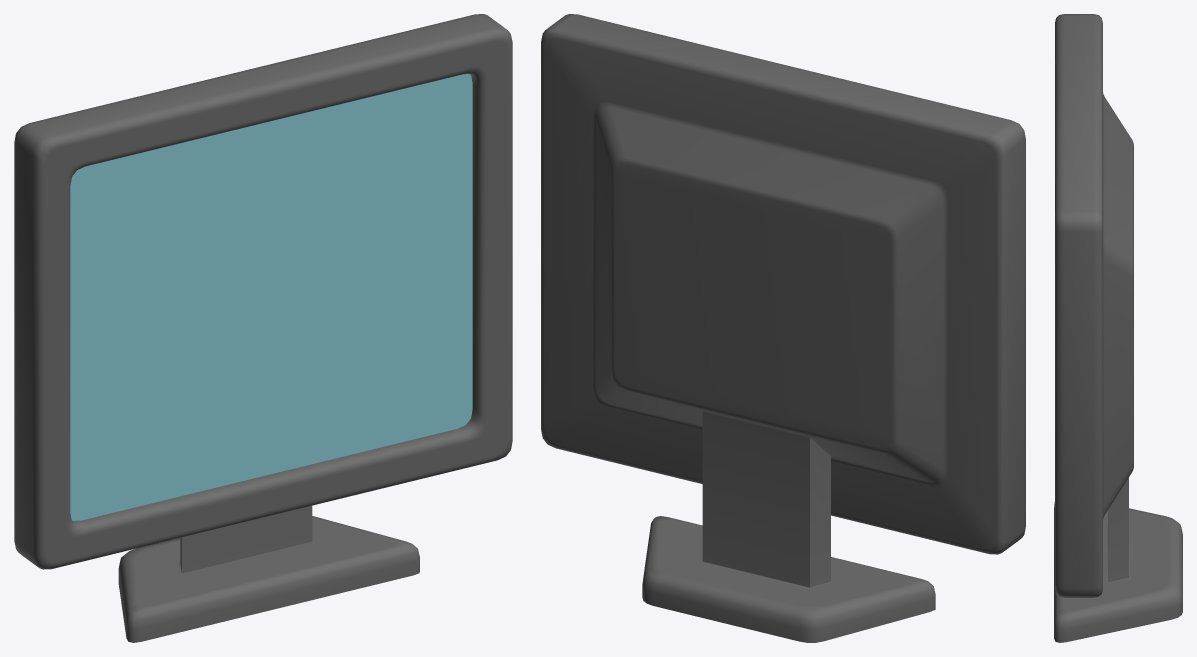
The model's file is Screen.FBX.
The picture shows the model from 3 angles, left to right: view 1: azimuth 30°, elevation 25°; view 2: azimuth 150°, elevation 25°; view 3: azimuth 270°, elevation 25°; orthographic projection. The views are drawn at different scales.
Parts seen in each view (by area): view 1: Screen; view 2: Screen; view 3: Screen.
Boxes of the visible parts, x1=… form: Screen: x1=14, y1=14, x2=512, y2=642; Screen: x1=541, y1=14, x2=1025, y2=642; Screen: x1=1054, y1=14, x2=1182, y2=642.
Size of the model in its own units: 13.5 by 14.11 by 3.54.
